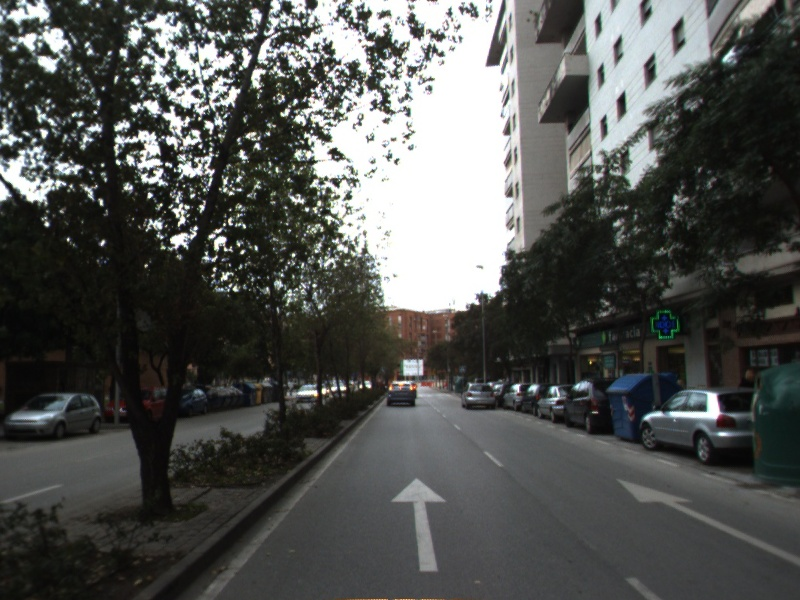STRAIGHT: (612, 475, 800, 566), (388, 475, 449, 574)
